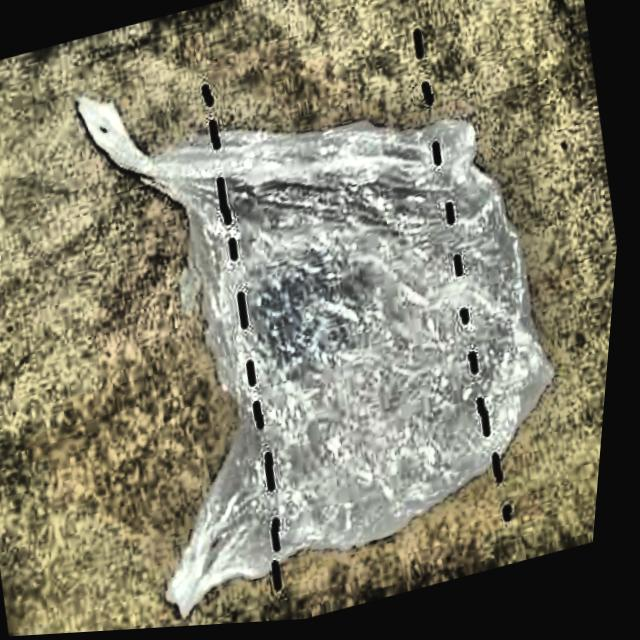Plastic: (32, 0, 627, 637)
